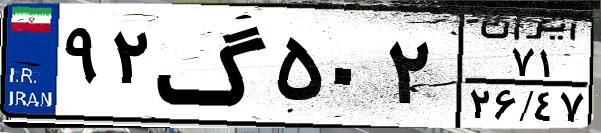0: (330, 28, 385, 110)
1: (537, 27, 568, 80)
2: (385, 28, 445, 110), (110, 28, 156, 98), (470, 70, 495, 125)
4: (535, 70, 560, 125)
5: (270, 28, 330, 110)
6: (495, 70, 520, 125)
7: (560, 70, 590, 125), (508, 27, 537, 80)
9: (57, 26, 110, 100)
گ: (156, 12, 270, 120)
